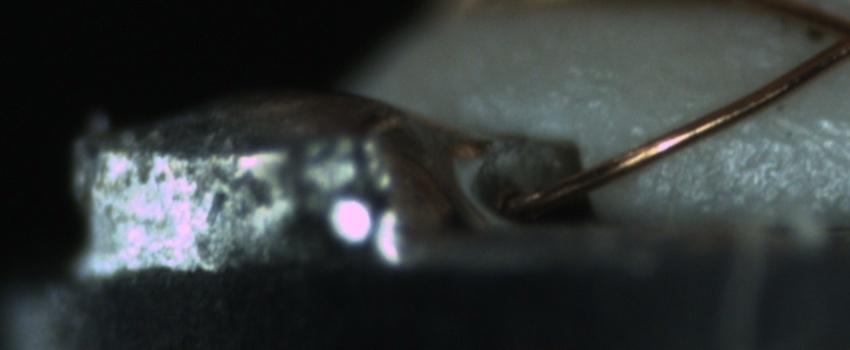CL: (807, 4, 850, 69)
DL: (699, 111, 850, 167)
